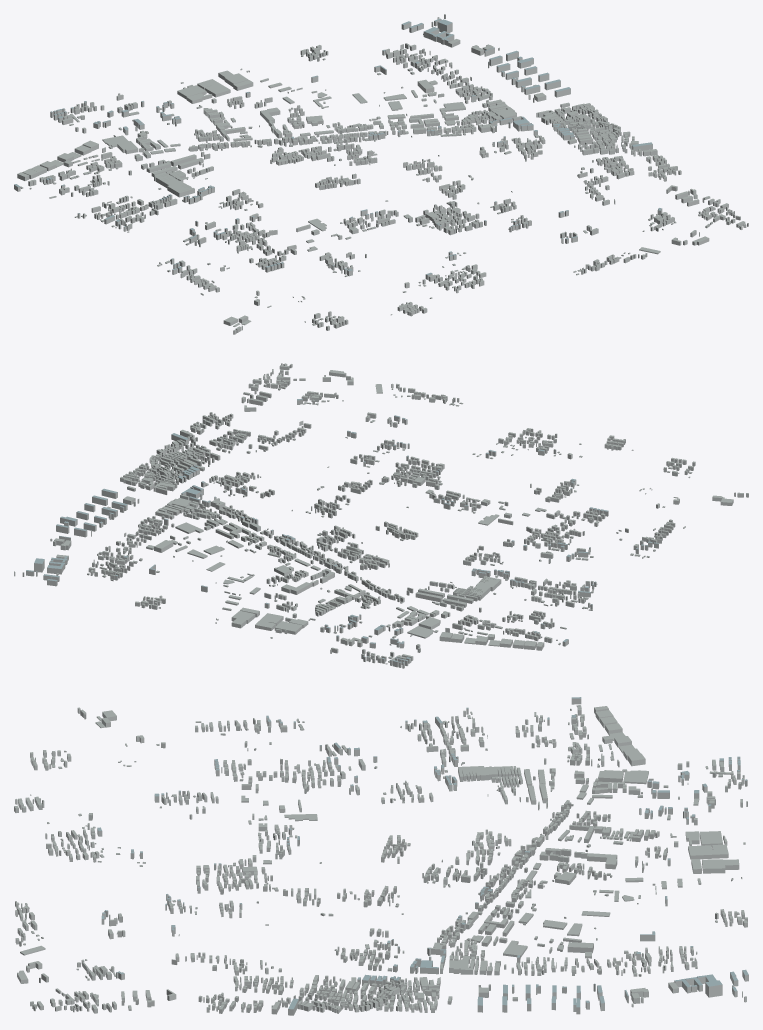
The model's file is far.glb.
The picture shows the model from 3 angles, top to bottom: view 1: azimuth 30°, elevation 25°; view 2: azimuth 150°, elevation 25°; view 3: azimuth 270°, elevation 25°; orthographic projection. The views are drawn at different scales.
Size of the model in its own units: 2121 by 34.65 by 2105.
